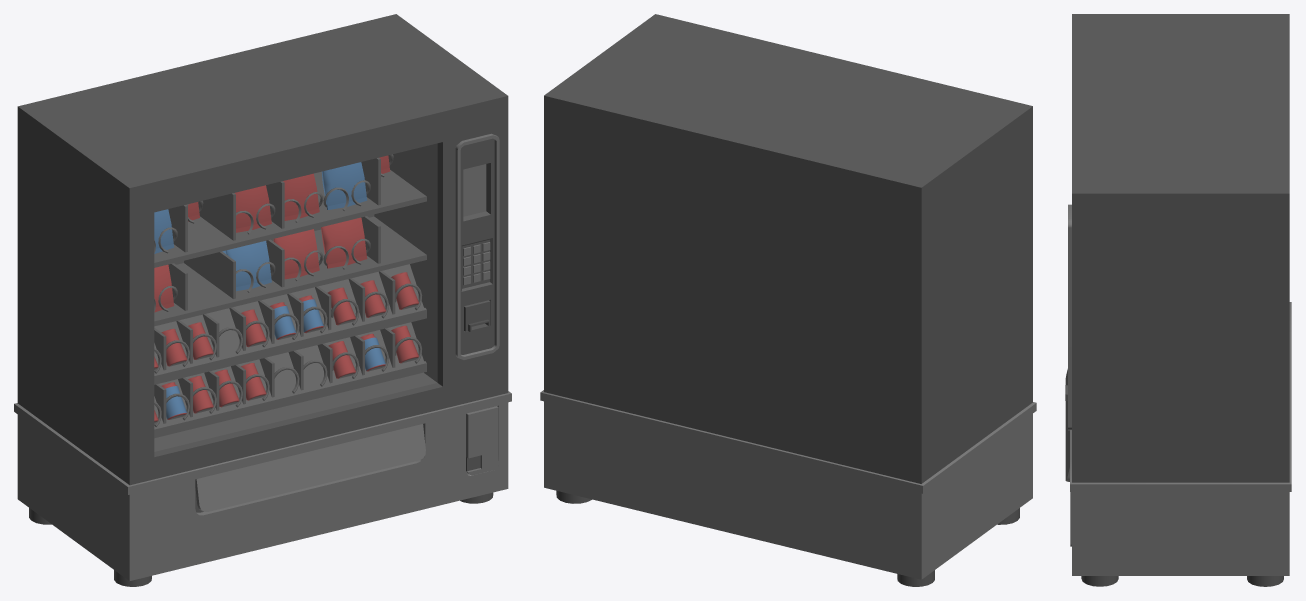
File: SM_VendingMachine02.fbx
3 views of the same model, side by side, from view 1: azimuth 30°, elevation 25°; view 2: azimuth 150°, elevation 25°; view 3: azimuth 270°, elevation 25° (orthographic). The views are drawn at different scales.
Visible parts, largest first — view 1: SM_VendingMachine02; view 2: SM_VendingMachine02; view 3: SM_VendingMachine02.
Part boxes in pixels (bbox=[...]): SM_VendingMachine02: bbox=[14, 14, 511, 586]; SM_VendingMachine02: bbox=[540, 14, 1036, 586]; SM_VendingMachine02: bbox=[1065, 14, 1291, 586].
Bounding box in the file's own units: 198 × 200 × 104.
